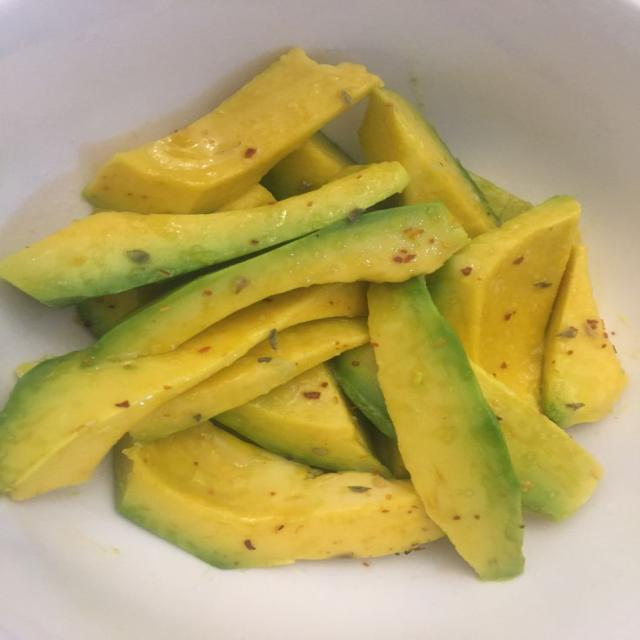avocado: (0, 288, 336, 499), (90, 203, 468, 364), (0, 163, 408, 306), (84, 49, 381, 213), (116, 424, 441, 568), (368, 278, 523, 579), (430, 196, 579, 403), (130, 319, 368, 440), (472, 363, 602, 520), (360, 89, 495, 237), (474, 365, 602, 520), (216, 364, 390, 476), (541, 243, 626, 427), (77, 278, 182, 337), (262, 132, 354, 199), (76, 280, 177, 338), (333, 344, 395, 438), (467, 170, 533, 223), (371, 427, 410, 479), (217, 183, 280, 212)
